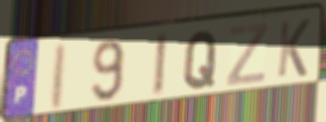9: (90, 38, 127, 105)
I: (47, 41, 69, 114), (151, 30, 170, 99)
K: (275, 17, 312, 80)
Q: (181, 29, 220, 92)
Z: (225, 20, 270, 88)
